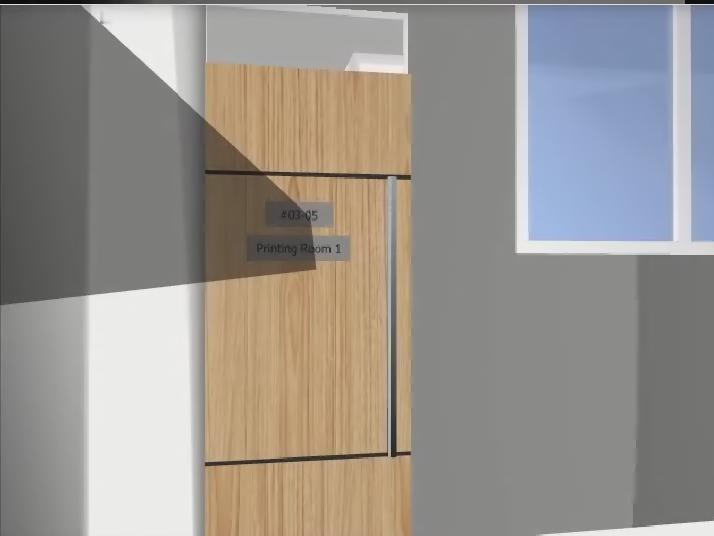door: (206, 63, 411, 536)
